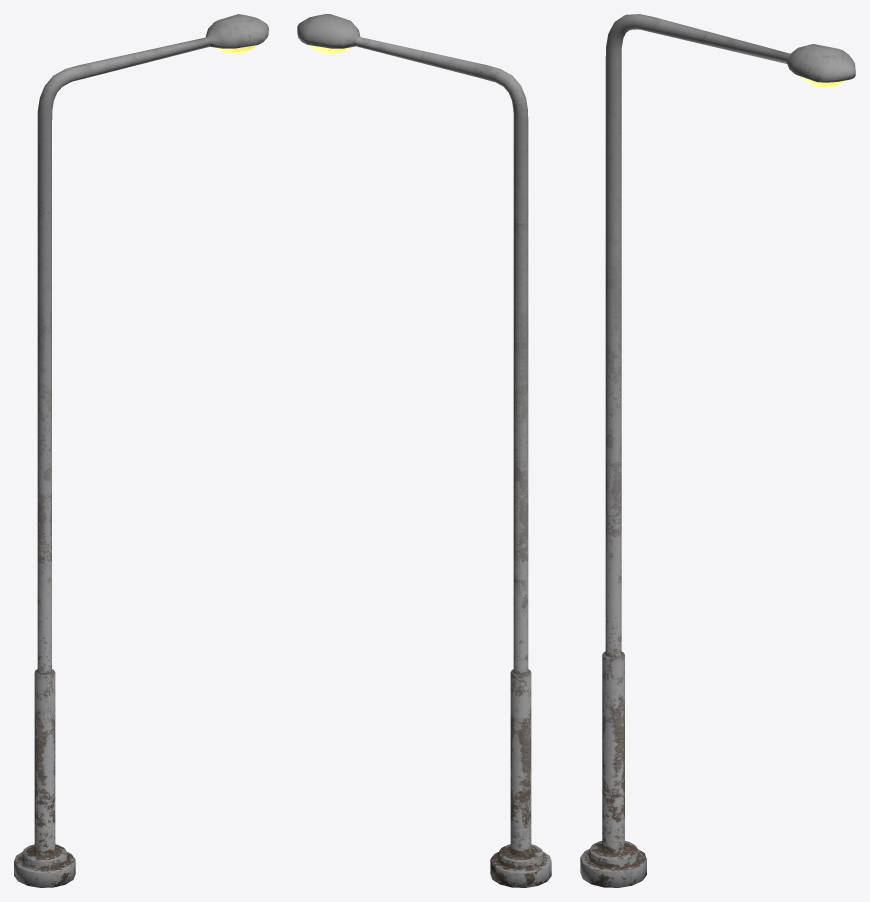
File: StreetLamp.fbx
3 views of the same model, side by side, from view 1: azimuth 30°, elevation 25°; view 2: azimuth 150°, elevation 25°; view 3: azimuth 330°, elevation 25° (orthographic). The views are drawn at different scales.
Parts seen in each view (by area): view 1: polySurface132.001; view 2: polySurface132.001; view 3: polySurface132.001.
Boxes of the visible parts, x1=… form: polySurface132.001: x1=14, y1=14, x2=268, y2=887; polySurface132.001: x1=297, y1=14, x2=551, y2=887; polySurface132.001: x1=580, y1=14, x2=855, y2=887.
Bounding box in the file's own units: 460 × 1425 × 96.12.
Materials: 2 (2 with a texture image).
